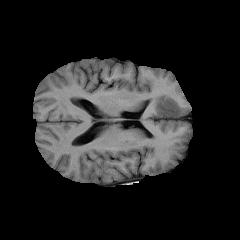glioma: (148, 94, 179, 116)
